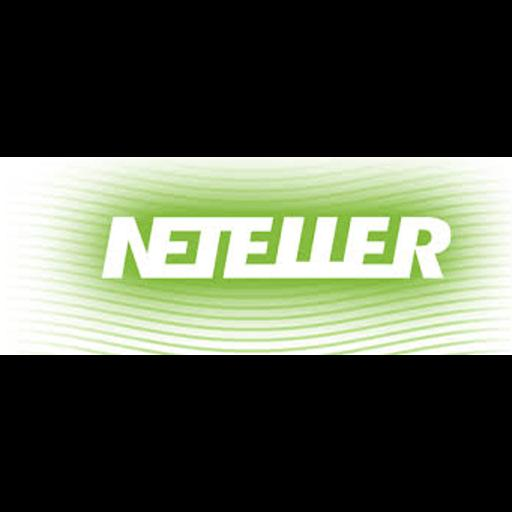Neteller: (0, 157, 512, 355)
